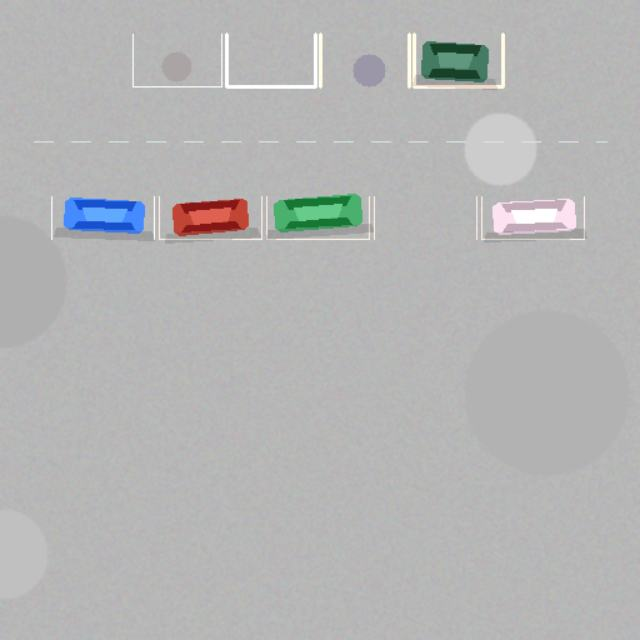space-empty: (132, 34, 221, 86), (226, 34, 315, 86), (320, 34, 409, 86), (374, 196, 476, 239)
space-occupied: (414, 34, 502, 86), (51, 196, 154, 239), (266, 196, 369, 239), (481, 196, 584, 239), (159, 196, 261, 239)
